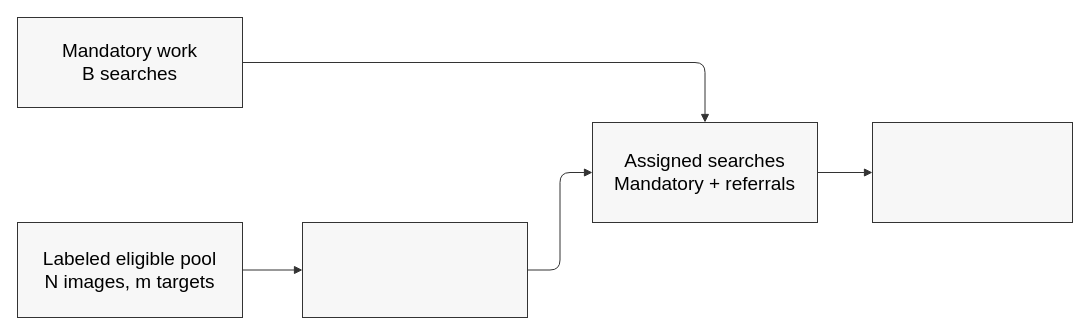
Image size: 1090x335. Some labels were removed from this diagram. Here are the shapes that lost their labels. From the top down, the centre of each, then its label:
(972,172): All targets detected Work at most C
(415,270): Additional review Fixed n or stop at z
